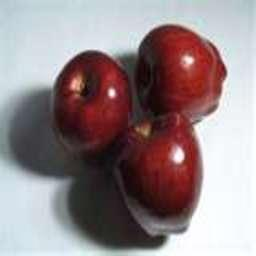apple: (114, 113, 204, 236), (137, 24, 226, 123), (48, 50, 130, 152)
